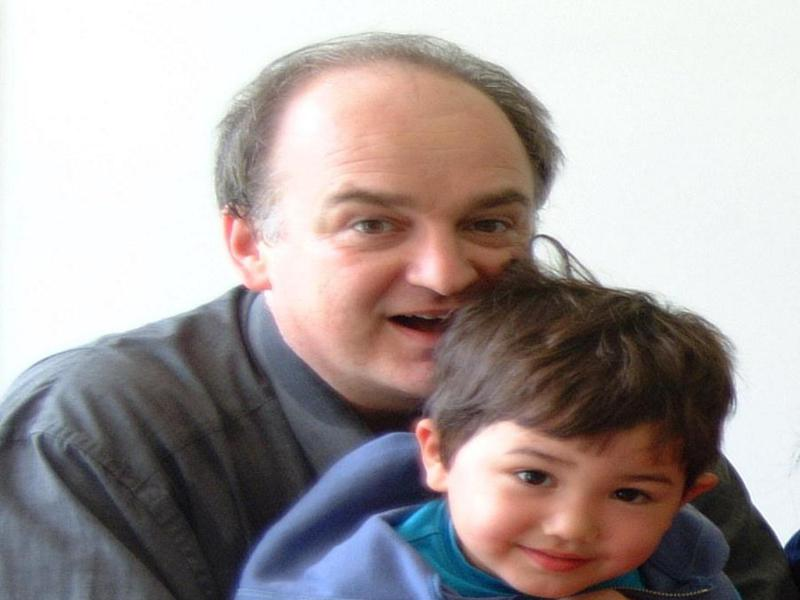person: (1, 30, 566, 599), (238, 281, 737, 598)
